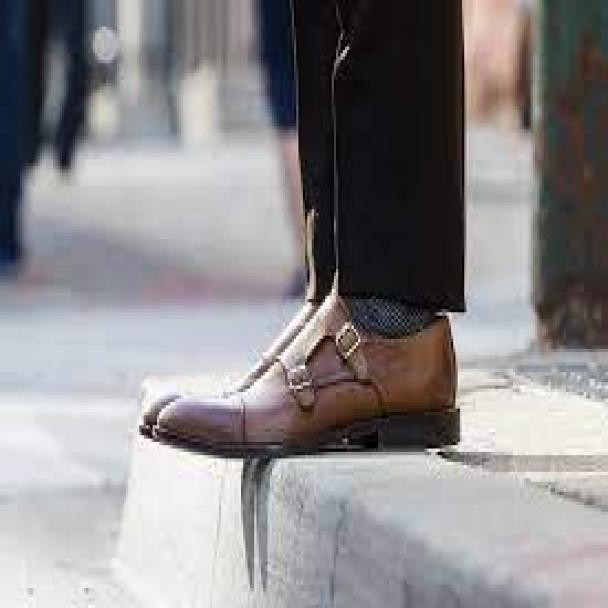Sepatu: (137, 306, 466, 458)
